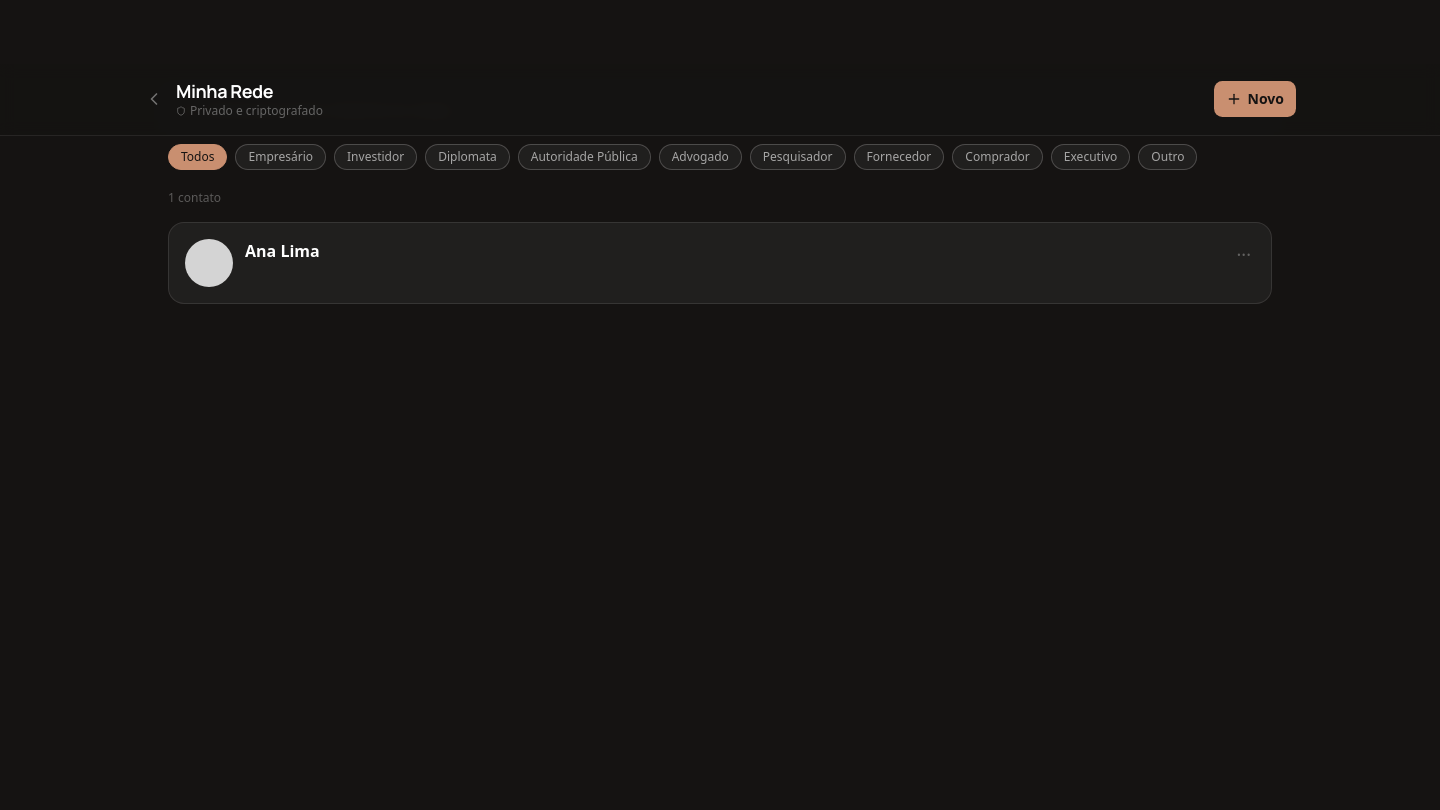
Test case: Minha Rede — editar e salvar fecha o modal › após o servidor confirmar a edição, nem 'Editar Contato' nem 'Novo Contato' ficam na tela, e não há 2º Salvar
Click the button "···" at (1244, 254), box [1232, 238, 1255, 270]
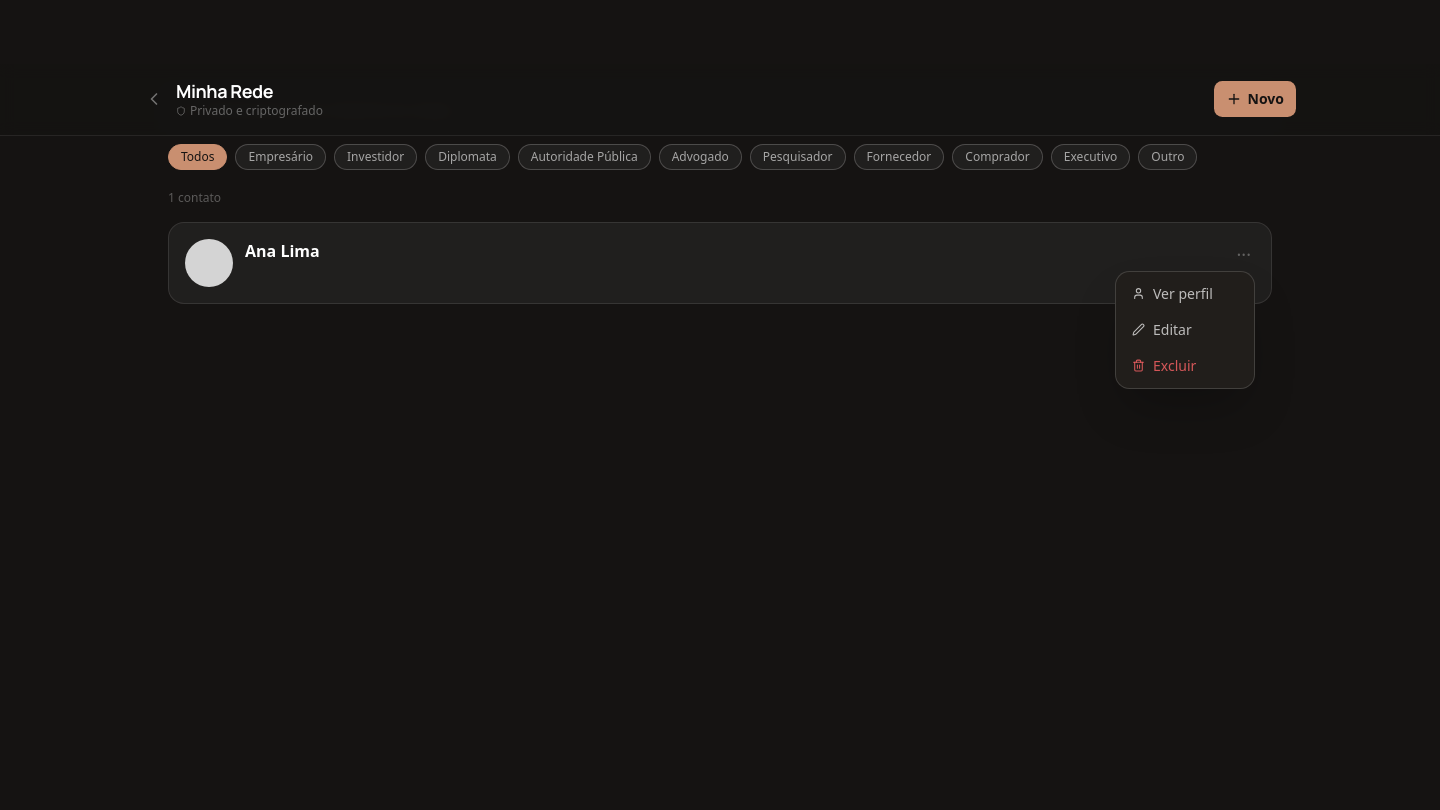
Click the button "Editar" at (1185, 330), box [1116, 312, 1254, 348]
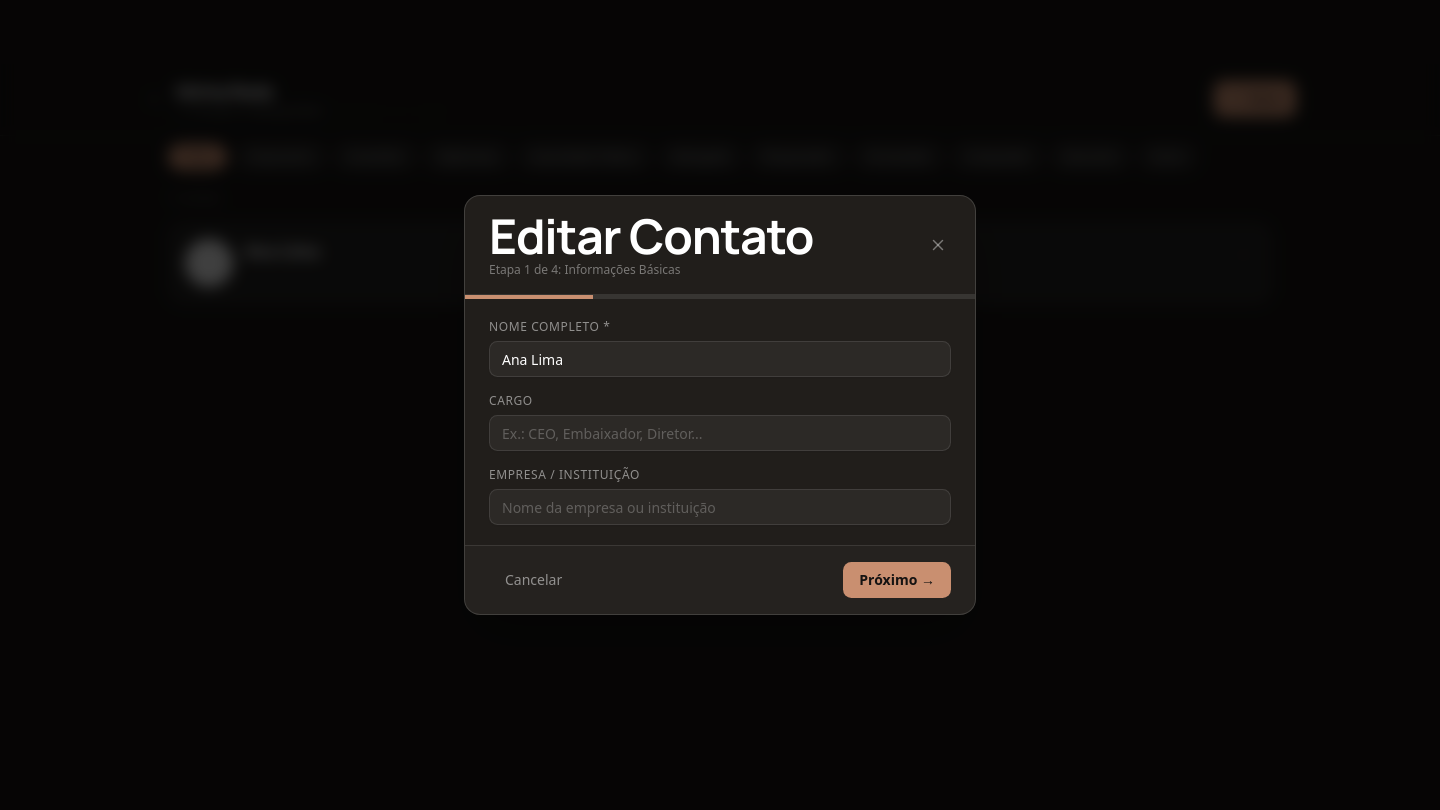
Expected: the heading "Editar Contato" is shown, [489, 212, 813, 260]
Expected: the button "Próximo →" is shown
Click the button "Próximo →" at (897, 580), box [843, 562, 951, 598]
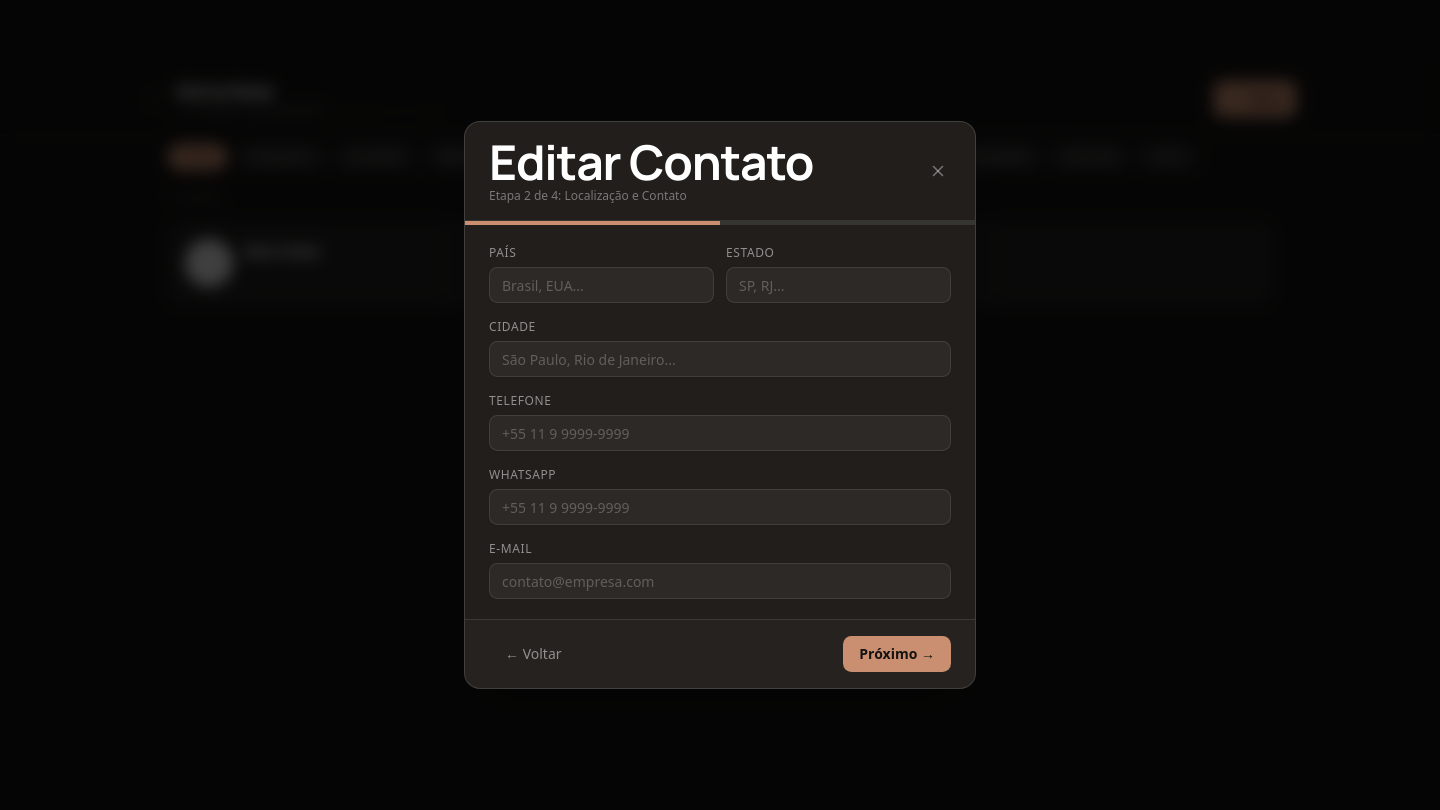
Click the button "Próximo →" at (897, 654), box [843, 636, 951, 672]
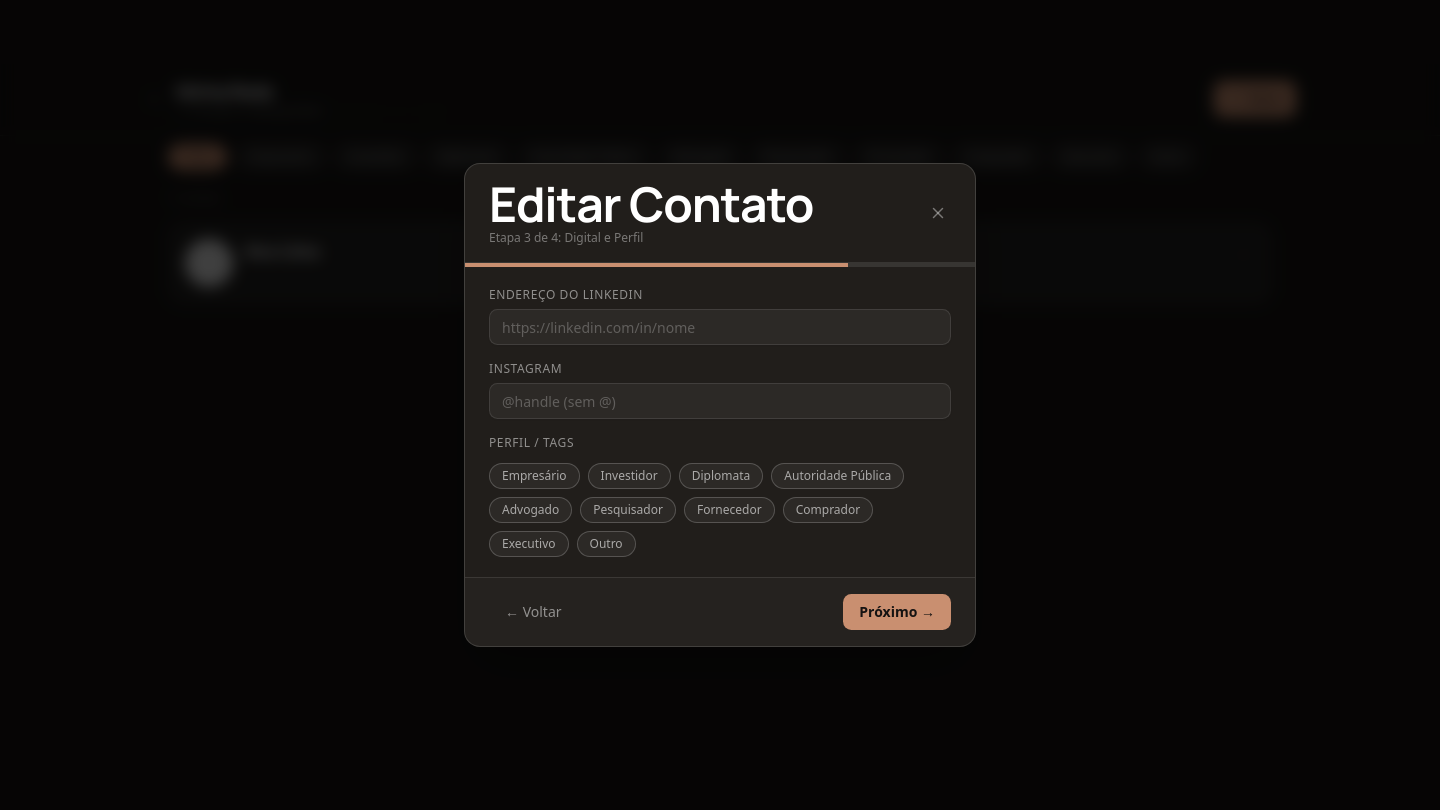
Click the button "Próximo →" at (897, 612), box [843, 594, 951, 630]
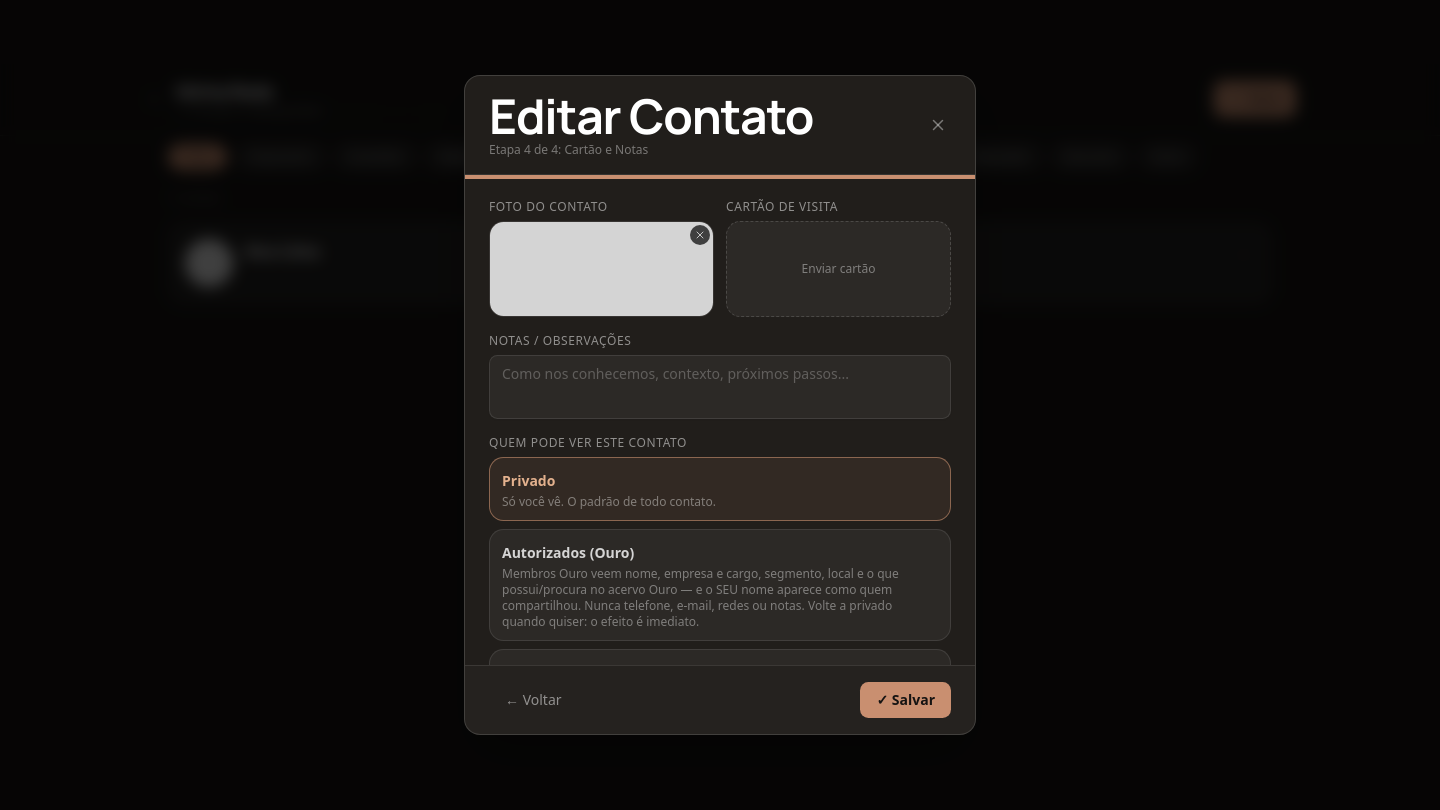
Click the button "✓ Salvar" at (906, 700), box [860, 682, 951, 718]
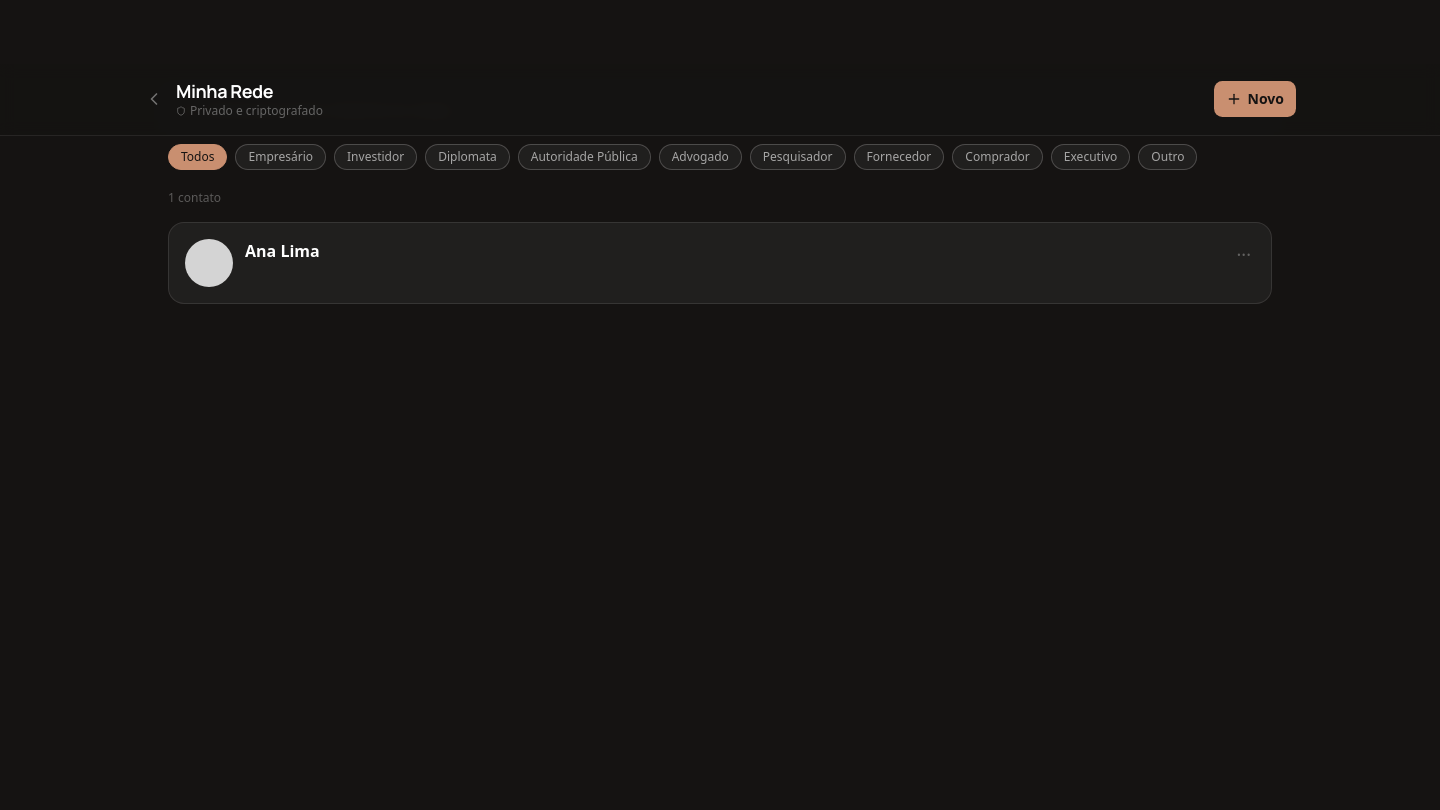
Expected: the heading "Editar Contato" is gone
Expected: the button "✓ Salvar" is gone
